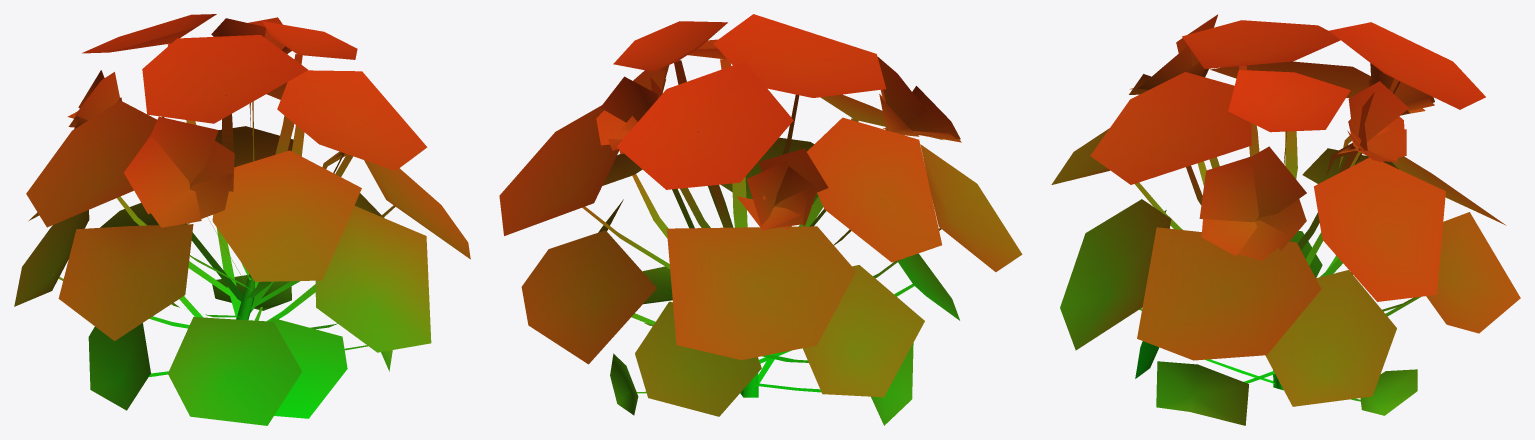
The model's file is Var11_LOD1.fbx.
3 views of the same model, side by side, from view 1: azimuth 30°, elevation 25°; view 2: azimuth 150°, elevation 25°; view 3: azimuth 270°, elevation 25° (orthographic). The views are drawn at different scales.
Visible parts, largest first — view 1: _a95e_Var11_LOD1; view 2: _a95e_Var11_LOD1; view 3: _a95e_Var11_LOD1.
Part boxes in pixels (x1,y1,x2,y2): _a95e_Var11_LOD1: (14, 14, 470, 425); _a95e_Var11_LOD1: (499, 14, 1022, 425); _a95e_Var11_LOD1: (1051, 14, 1520, 425).
Bounding box in the file's own units: 26.89 × 21.46 × 26.26.
